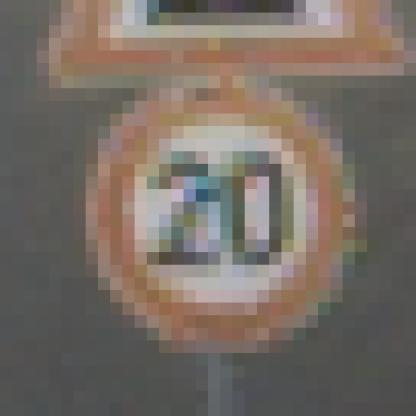Speed Limit 20: (98, 85, 346, 344)
